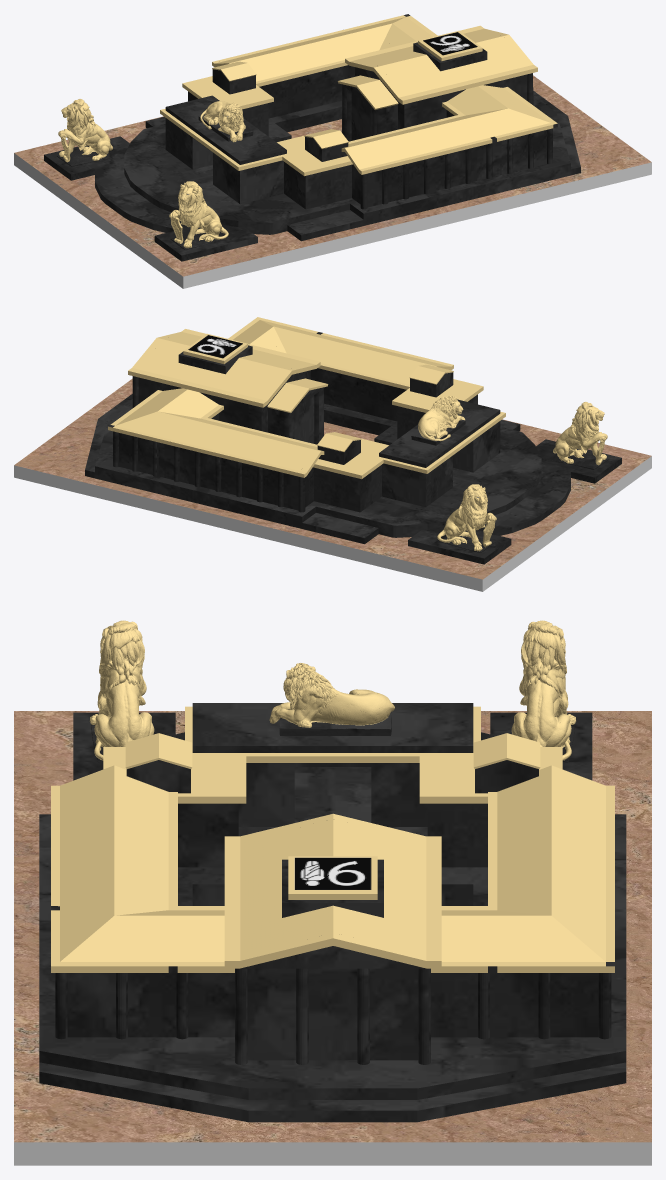
Rendered from buildingRegia.glb.
3 views of the same model, one above another, from view 1: azimuth 30°, elevation 25°; view 2: azimuth 150°, elevation 25°; view 3: azimuth 270°, elevation 25° (orthographic). The views are drawn at different scales.
Visible parts, largest first — view 1: Regia; view 2: Regia; view 3: Regia.
Part boxes in pixels (x1=…): Regia: x1=14, y1=14, x2=651, y2=288; Regia: x1=14, y1=317, x2=651, y2=591; Regia: x1=14, y1=620, x2=651, y2=1165.
Size of the model in its own units: 8 by 1.59 by 5.
5 materials, 3 textured.
